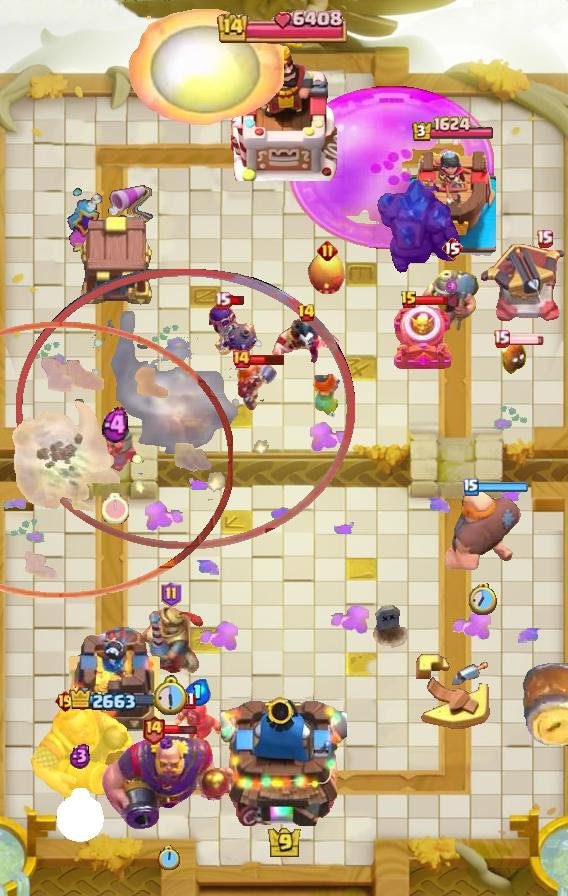balloon: (443, 488, 523, 576)
bandit: (421, 264, 483, 334)
bomb: (75, 213, 155, 307)
bomber: (500, 338, 528, 376)
bowler: (173, 699, 223, 751)
cannoneer-tower: (376, 180, 464, 278)
clock: (217, 9, 351, 43)
dirt: (521, 659, 568, 749)
electro-spirit: (102, 407, 129, 444), (185, 678, 211, 705), (69, 743, 91, 769), (445, 277, 459, 294)
elixir: (57, 788, 103, 842), (154, 676, 191, 717), (469, 583, 497, 615), (102, 492, 129, 523), (159, 844, 182, 871)
emote: (477, 482, 528, 492), (249, 354, 287, 367), (507, 333, 545, 345), (162, 723, 197, 736), (415, 294, 449, 305), (229, 294, 247, 305)
giant-skeleton: (26, 706, 134, 802)
goblin-ball: (207, 302, 261, 358)
goblin-cage: (391, 303, 455, 373)
hog: (307, 252, 347, 296)
hog-rider: (235, 360, 281, 414), (308, 369, 346, 421)
king-tower: (221, 690, 347, 826), (231, 43, 337, 181)
knight-evolution: (288, 86, 494, 250)
lava-pup: (480, 243, 568, 325)
lightning: (101, 733, 237, 831)
lumberjack: (268, 314, 344, 368)
queen-tower: (68, 627, 160, 731), (410, 144, 496, 255)
ram-rider: (135, 604, 207, 676)
royal-ghost: (17, 269, 356, 549), (0, 322, 232, 598)
selected: (68, 686, 159, 714), (411, 116, 495, 143)
text: (142, 714, 167, 745), (54, 689, 77, 713), (162, 581, 183, 607), (441, 236, 463, 260), (318, 239, 339, 261), (231, 349, 251, 369), (296, 303, 315, 323), (400, 290, 418, 310), (213, 290, 231, 309), (493, 329, 511, 347), (536, 229, 553, 247), (463, 478, 479, 496), (181, 691, 195, 709)
valkyrie: (128, 6, 284, 128)
witch: (92, 426, 138, 478)
